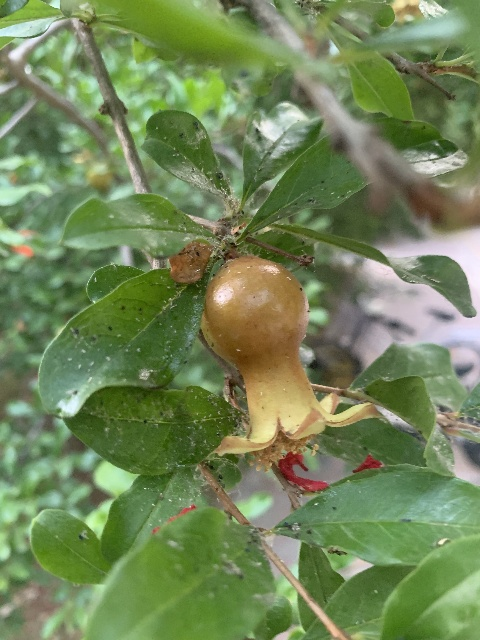early-fruit: (200, 254, 383, 455)
